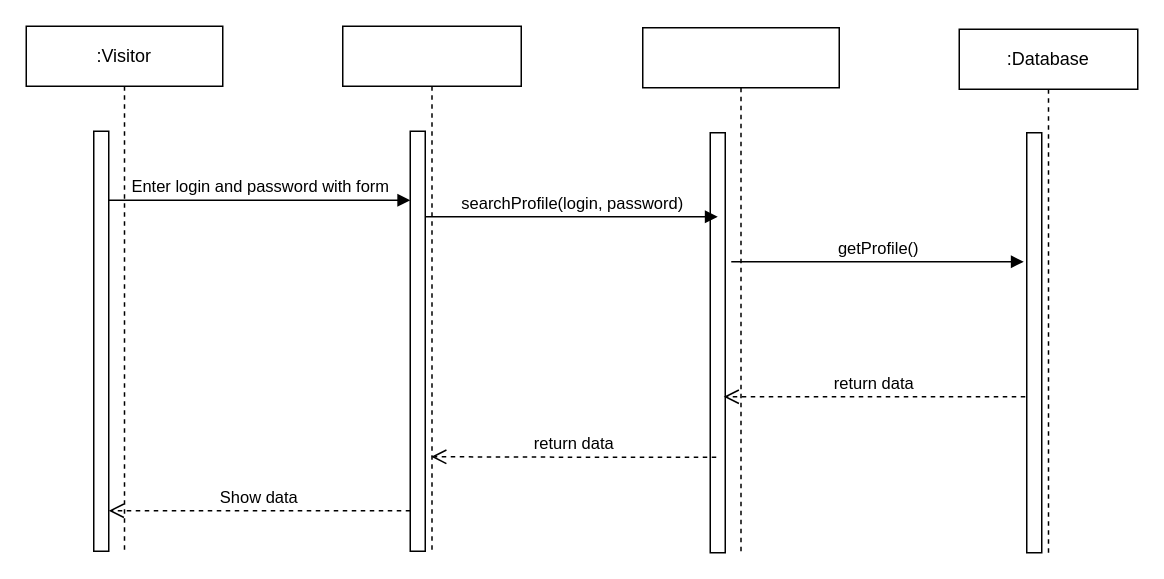
This 1164x579 diagram has some shape labels left out. Here are the shapes that lost their labels. From the top down, the centre of each, then its label:
At point (431, 288): ":ApplicationIHM".
At point (740, 289): ":Control".
